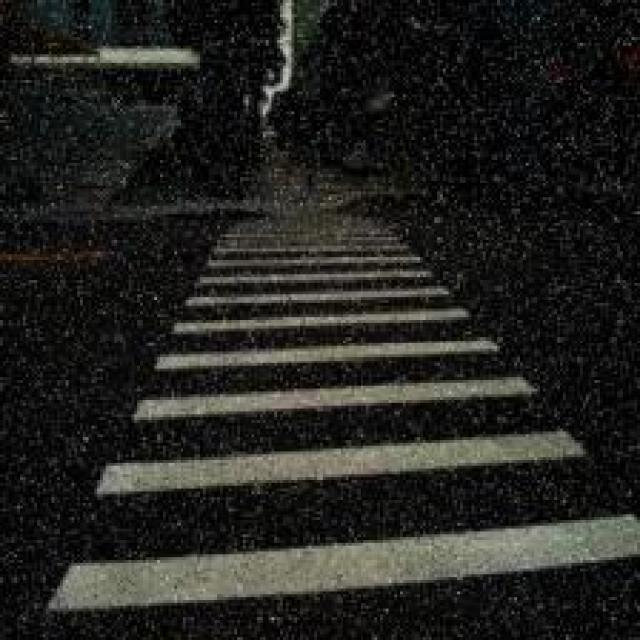walk-crossing: (50, 212, 639, 614)
